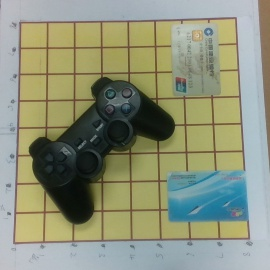card: (166, 168, 249, 222), (169, 22, 221, 97)
remote: (27, 76, 175, 226)
